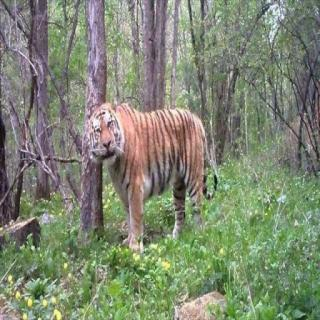Tiger: (80, 94, 226, 259)
